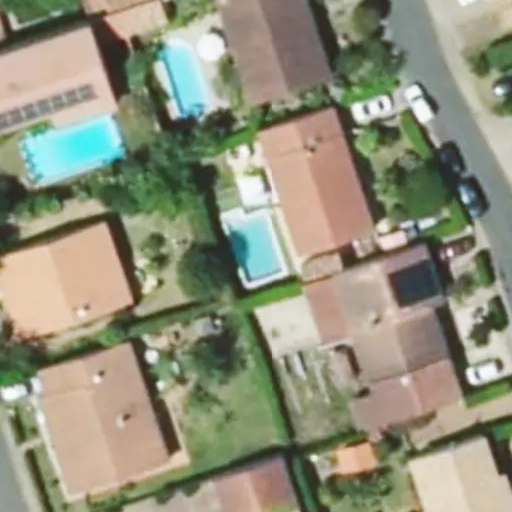pool: (17, 110, 125, 188), (149, 34, 221, 124), (219, 205, 291, 286)
